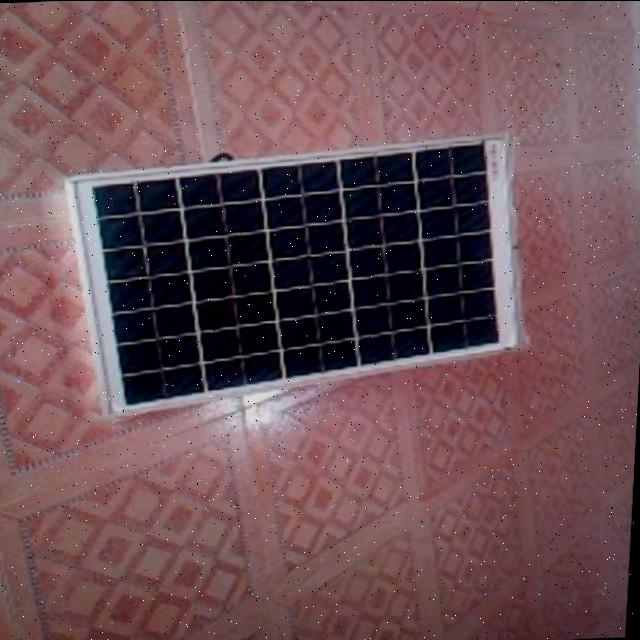Normal Solar Panel: (61, 134, 535, 417)
